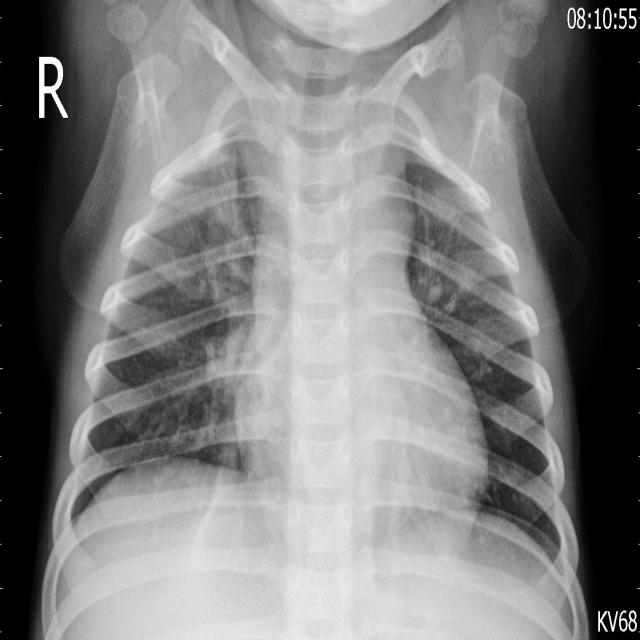high-pneumonia: (160, 141, 248, 254)
low-pneumonia: (415, 179, 510, 329), (206, 251, 260, 416)
